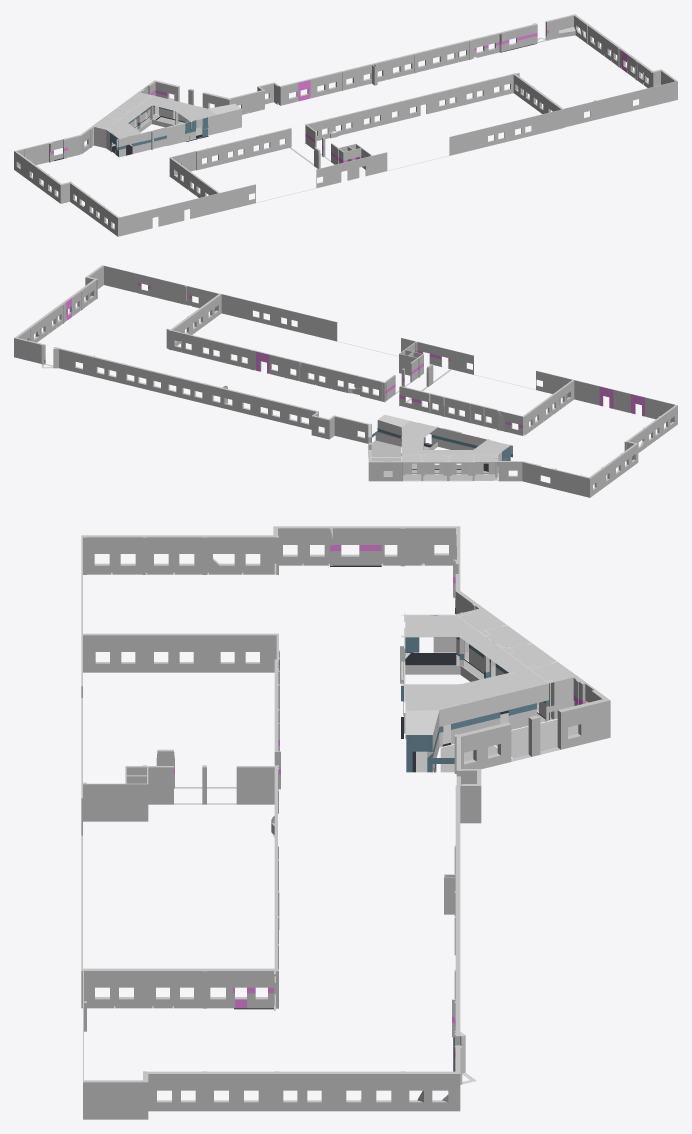
The model's file is HallPerimeter2.fbx.
3 views of the same model, one above another, from view 1: azimuth 30°, elevation 25°; view 2: azimuth 150°, elevation 25°; view 3: azimuth 270°, elevation 25° (orthographic). The views are drawn at different scales.
Parts seen in each view (by area): view 1: Plane.002; view 2: Plane.002; view 3: Plane.002.
Boxes of the visible parts, bbox=[...] form: Plane.002: bbox=[14, 14, 677, 236]; Plane.002: bbox=[14, 265, 677, 497]; Plane.002: bbox=[81, 526, 610, 1119].
Bounding box in the file's own units: 13404 × 423 × 5391.
